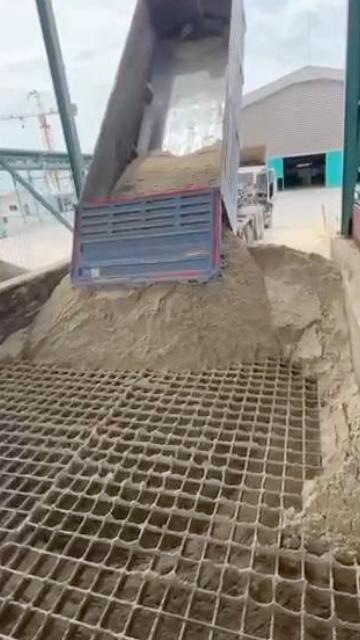sand: (28, 234, 360, 558), (112, 143, 220, 196), (0, 328, 28, 359), (0, 260, 25, 283)
